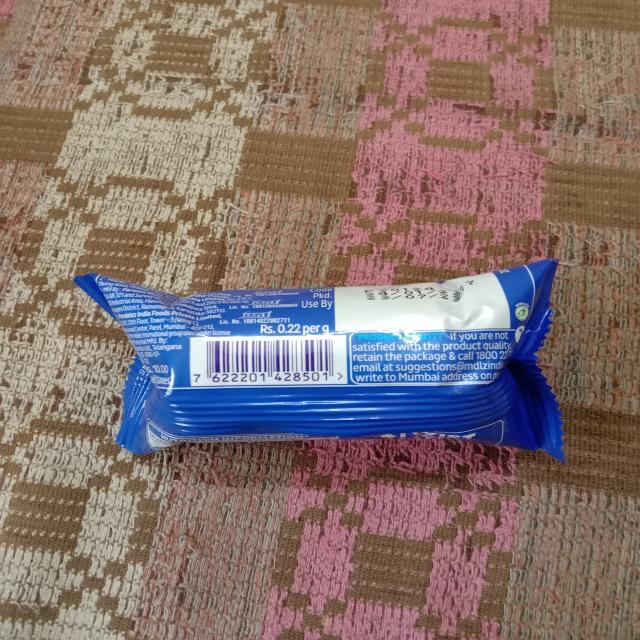oreo biscuit: (70, 264, 577, 463)
